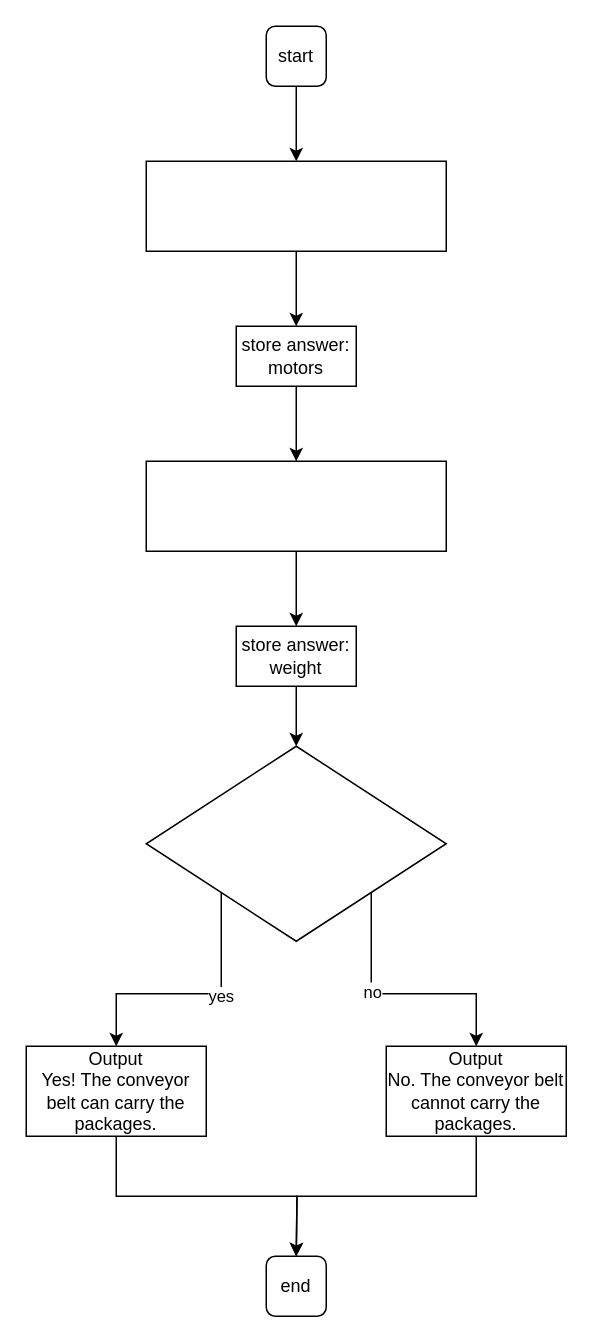
Some shapes in this 593 by 1343 pixel diagram are drawn without their labels. The centre of each missing label's shape, as x and y in pixels:
Is weight/moter <= 5.6: [295,843]
Prompt: How many kg of packages do we expect?: [295,505]
Prompt: How many motors are carrying the packages?: [295,205]
